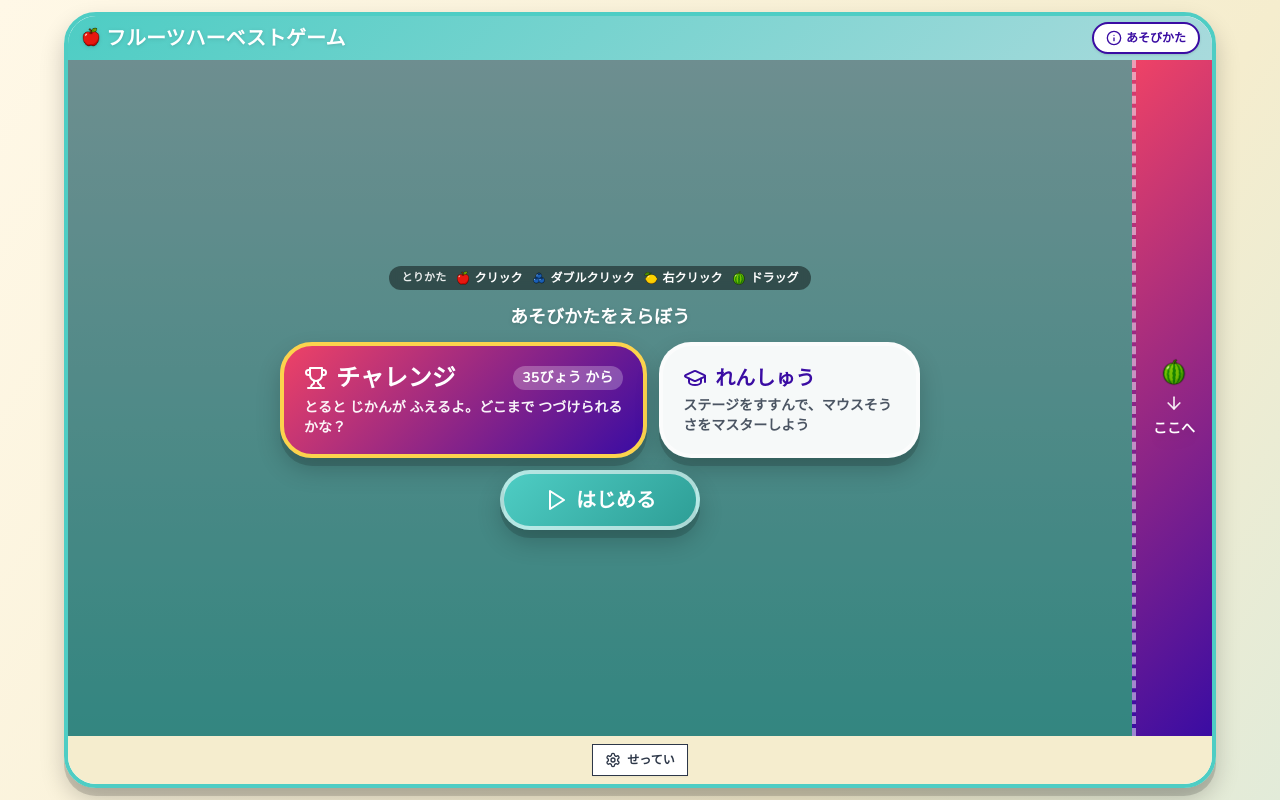
Test: 待機中のヘッダと Enter での開始は、選んでいるモードに従う › れんしゅうを選んで Enter を押すと、れんしゅうで始まる
Step 1. Click the button with test id "mode-select-practice" → (790, 400), box [659,342,920,458]
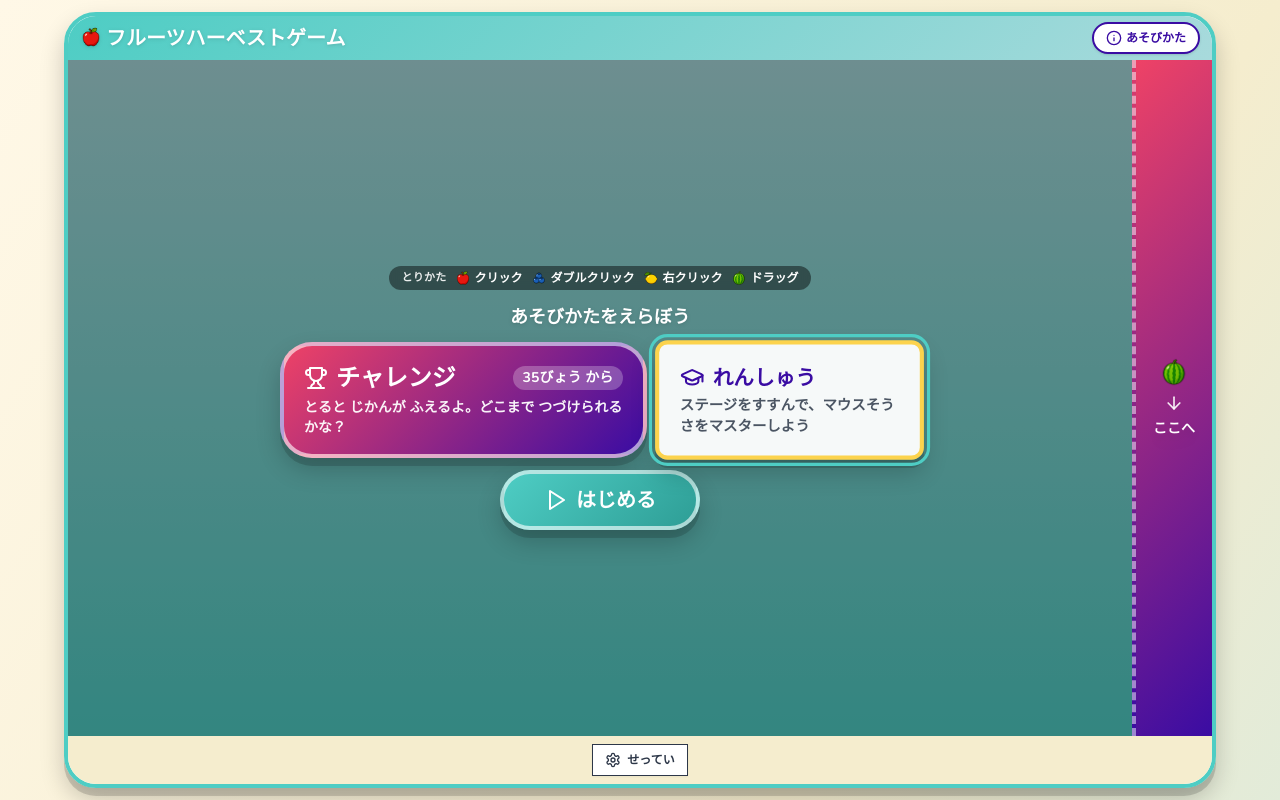
Step 2. Press Enter
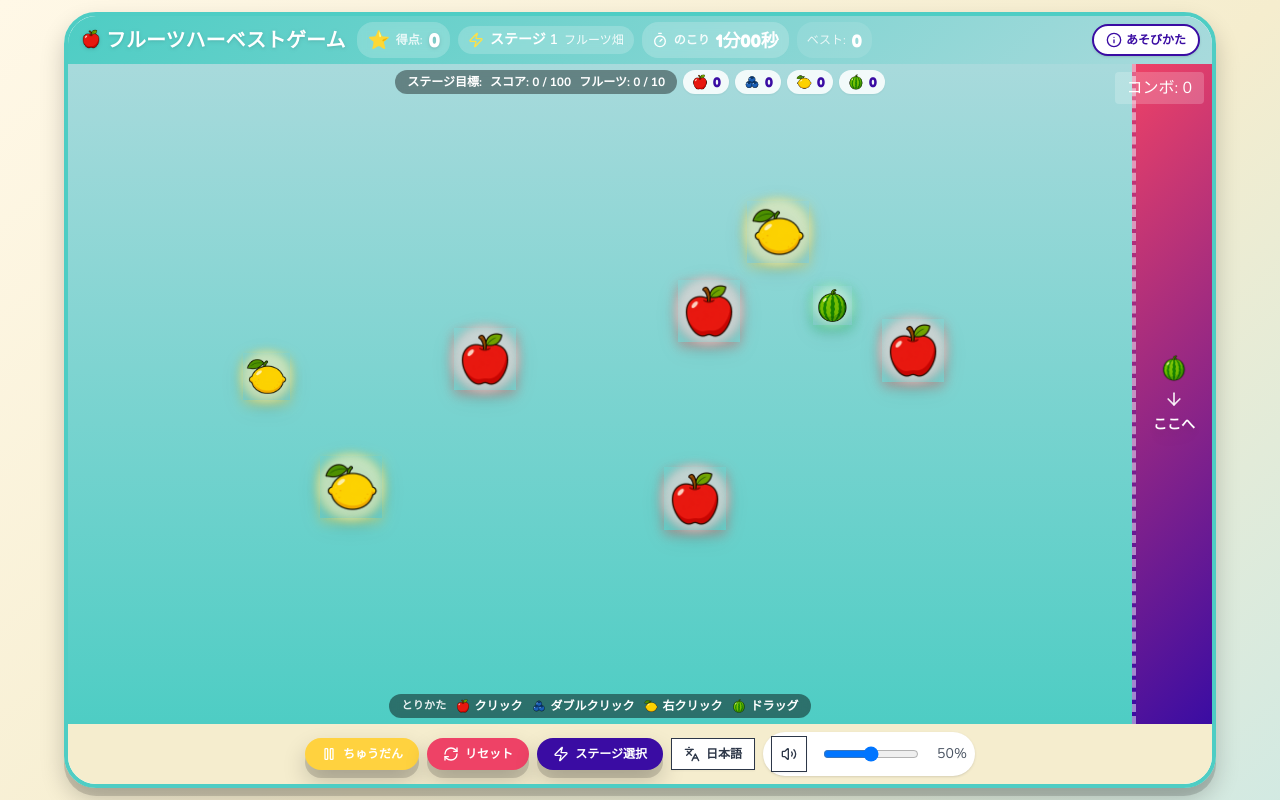
Now the text "ステージ目標:" is shown, box [407,74,482,90]
